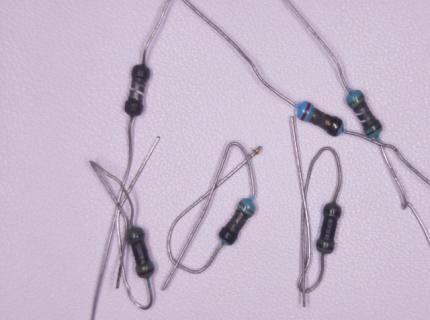resistor_faulty: (347, 88, 382, 141), (219, 195, 254, 245), (296, 101, 343, 136), (126, 226, 153, 278), (316, 201, 341, 255), (125, 64, 150, 117)
